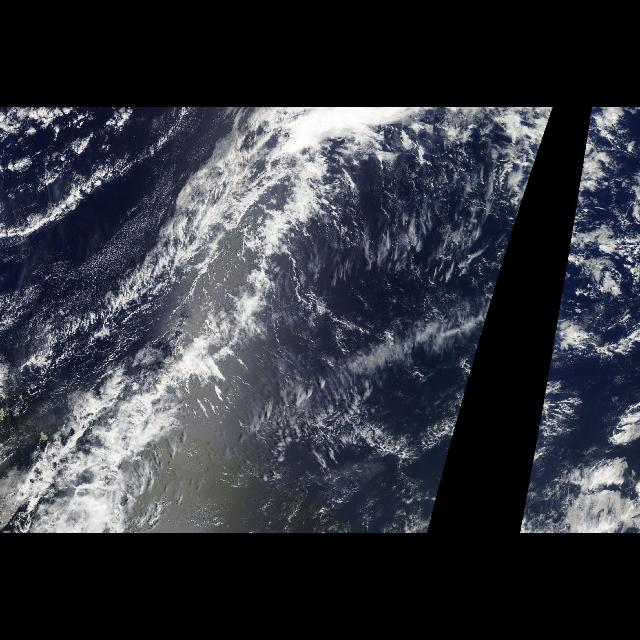Fish: (23, 126, 385, 522)
Sugar: (15, 162, 194, 372), (290, 298, 480, 402), (360, 172, 492, 286)
